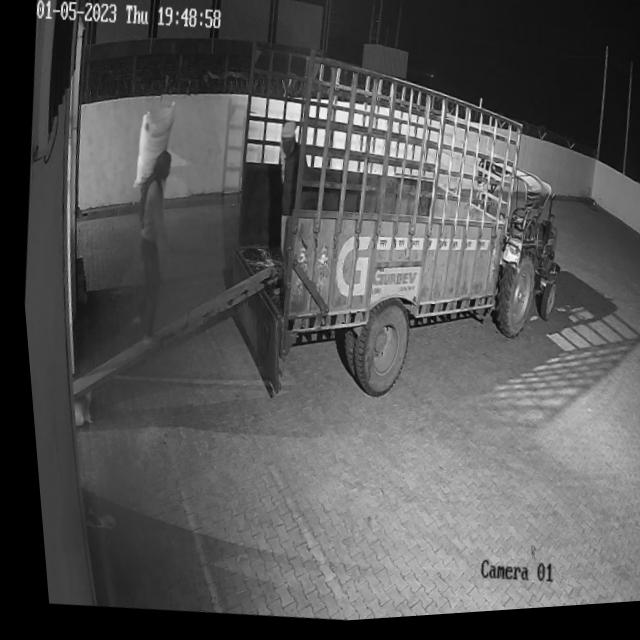sack: (123, 100, 178, 195)
